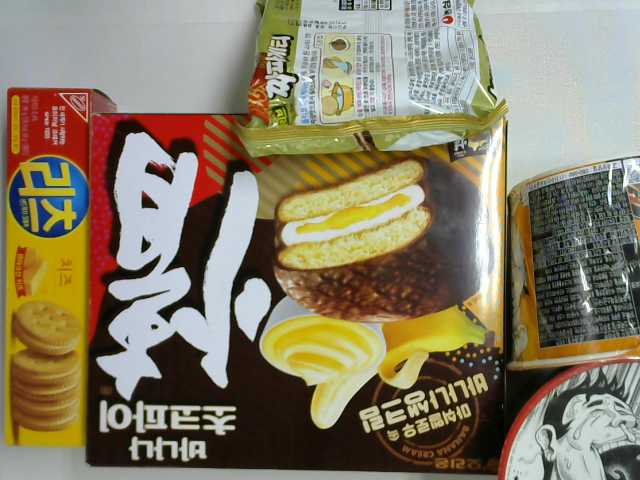Choco_Pie_Banana: (84, 112, 511, 477)
Hejangchan: (507, 154, 640, 374)
Hejangpul: (492, 355, 639, 480)
Olive_Chapaghetti: (235, 1, 511, 157)
Ritz_Sand_Cracker: (1, 85, 119, 445)
